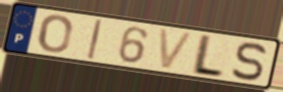6: (118, 25, 150, 65)
I: (85, 18, 104, 61)
L: (188, 33, 227, 80)
O: (37, 14, 74, 54)
S: (229, 41, 269, 83)
V: (157, 27, 197, 72)
